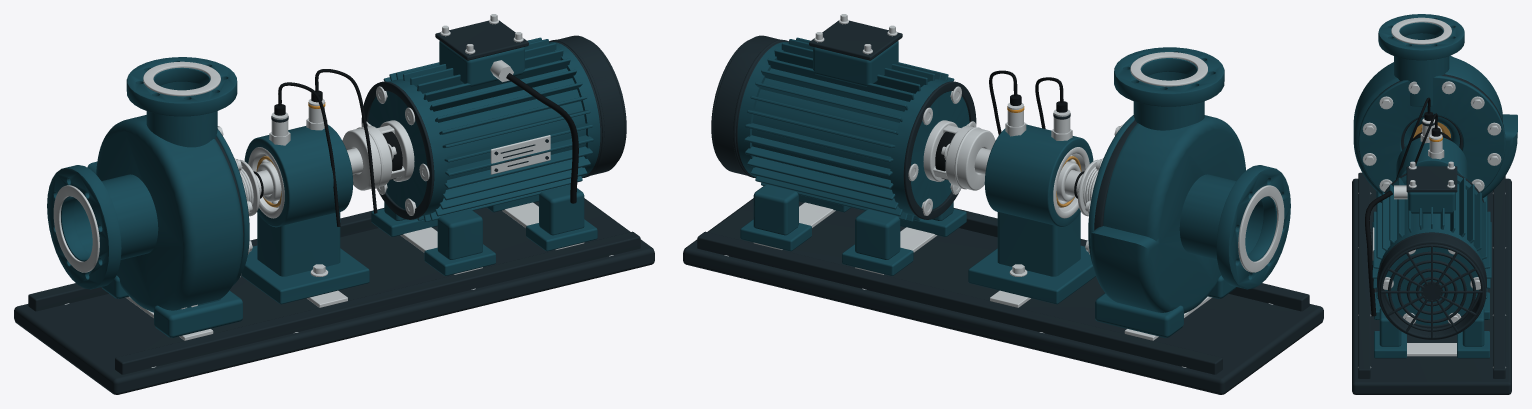
Rendered from pump-core-detailed-v2.glb.
3 renders of one model, left to right at view 1: azimuth 30°, elevation 25°; view 2: azimuth 150°, elevation 25°; view 3: azimuth 270°, elevation 25°, orthographic. The views are drawn at different scales.
Parts seen in each view (by area): view 1: volute, motor, baseplate, coupling, sensor_vibration, bearing_front, sensor_temperature, shaft, mechanical_seal; view 2: volute, motor, baseplate, coupling, bearing_front, sensor_temperature, sensor_vibration, shaft, mechanical_seal; view 3: motor, volute, baseplate, sensor_temperature, sensor_vibration, impeller.
Boxes of the visible parts, bbox=[...] form: volute: bbox=[47, 57, 369, 337]; motor: bbox=[361, 14, 626, 275]; baseplate: bbox=[14, 198, 654, 394]; coupling: bbox=[342, 120, 414, 190]; sensor_vibration: bbox=[269, 82, 340, 226]; bearing_front: bbox=[248, 147, 284, 218]; sensor_temperature: bbox=[306, 69, 377, 213]; shaft: bbox=[253, 148, 363, 198]; mechanical_seal: bbox=[239, 159, 259, 216]; volute: bbox=[968, 47, 1290, 337]; motor: bbox=[711, 14, 976, 275]; baseplate: bbox=[683, 198, 1323, 394]; coupling: bbox=[923, 120, 995, 190]; bearing_front: bbox=[1053, 147, 1089, 218]; sensor_temperature: bbox=[989, 70, 1026, 136]; sensor_vibration: bbox=[1035, 77, 1072, 140]; shaft: bbox=[974, 148, 1084, 198]; mechanical_seal: bbox=[1078, 159, 1098, 216]; motor: bbox=[1365, 161, 1491, 358]; volute: bbox=[1353, 14, 1517, 211]; baseplate: bbox=[1352, 172, 1511, 394]; sensor_temperature: bbox=[1414, 113, 1444, 165]; sensor_vibration: bbox=[1396, 97, 1434, 179]; impeller: bbox=[1413, 122, 1450, 137].
Size of the model in its own units: 4.7 by 2.15 by 1.6.
